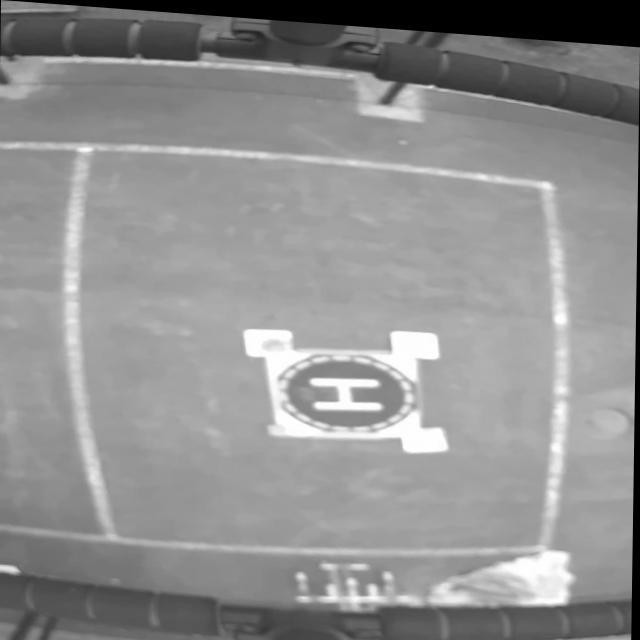Helipad: (307, 373, 385, 406)
